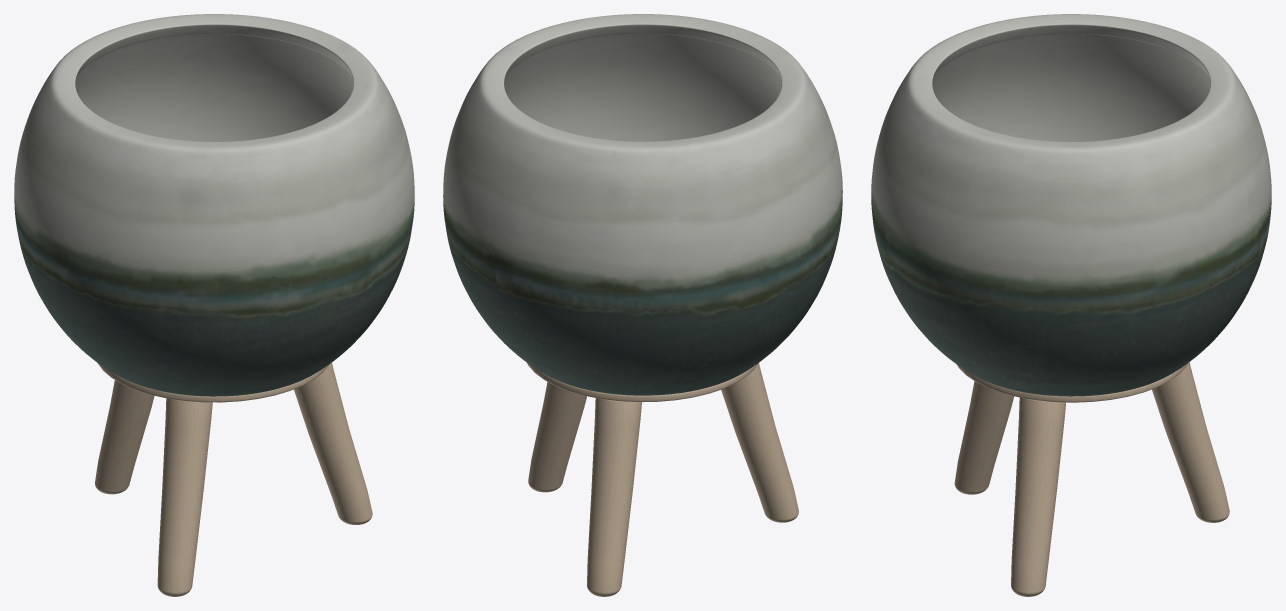
The model's file is abo-B07QB8L7ZC.glb.
The picture shows the model from 3 angles, left to right: view 1: azimuth 30°, elevation 25°; view 2: azimuth 150°, elevation 25°; view 3: azimuth 270°, elevation 25°; orthographic projection.
Size of the model in its own units: 0.222 by 0.278 by 0.222.
1 material, 1 textured.
